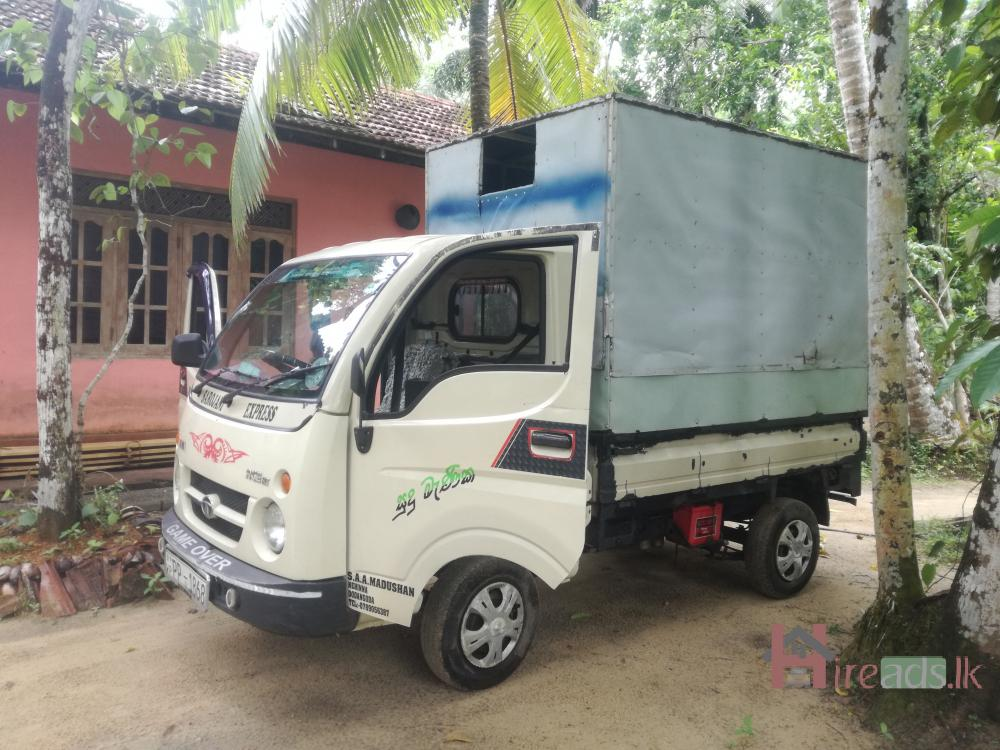truck: (156, 91, 869, 689)
